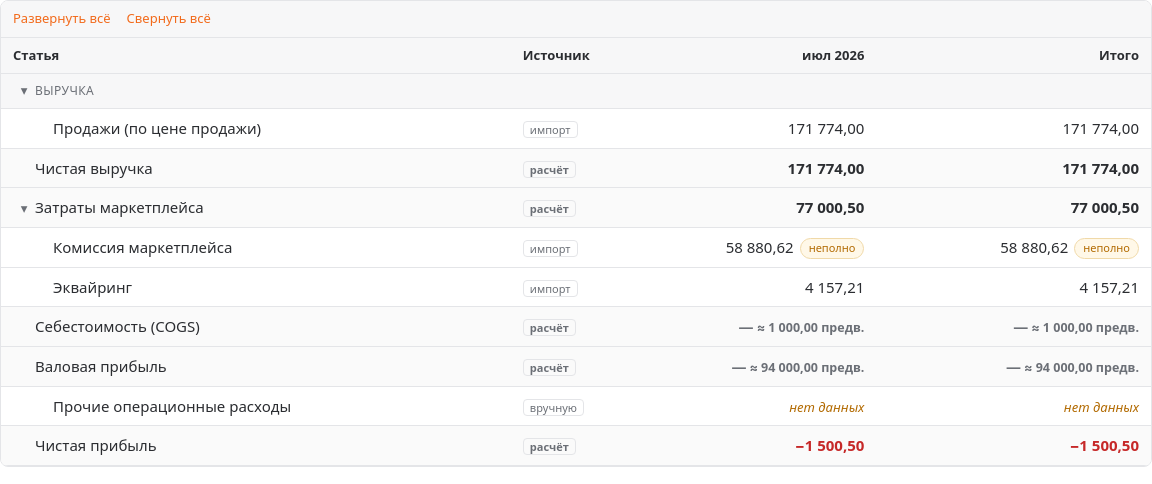
Test: таблица P&L › группы сворачиваются и разворачиваются
This screenshot has width=1152, height=484.
Expected: the button "Эквайринг" is shown, x1=53 y1=276 x2=132 y2=298
Step 1. Click the button named "Свернуть Затраты маркетплейса" → [24, 208], box x1=13 y1=201 x2=35 y2=216
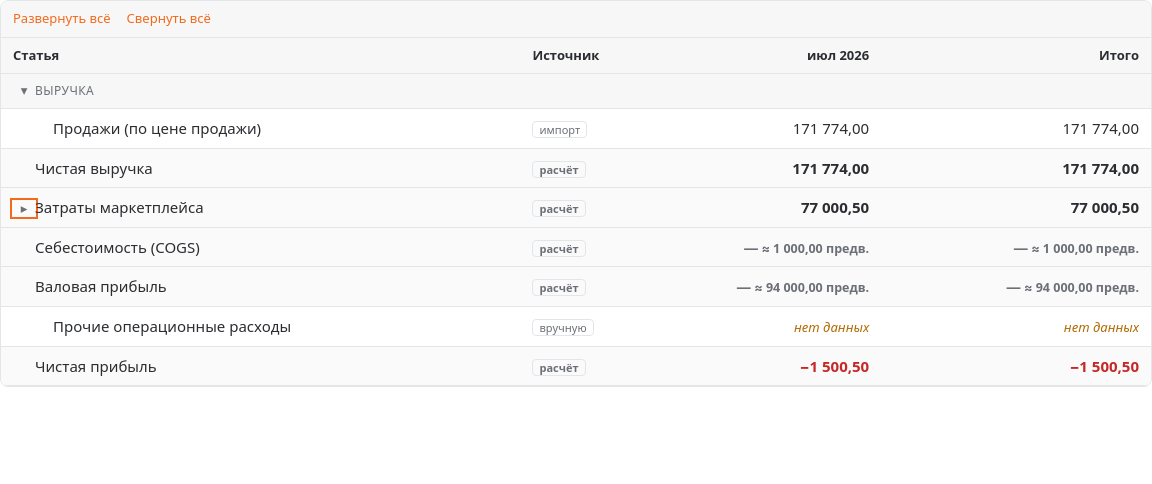
Expected: the button "Эквайринг" is gone
Expected: the button named "Развернуть Затраты маркетплейса" is collapsed, x1=13 y1=201 x2=35 y2=216
Step 2. Click the button "Развернуть всё" → [62, 19], box x1=13 y1=9 x2=111 y2=28
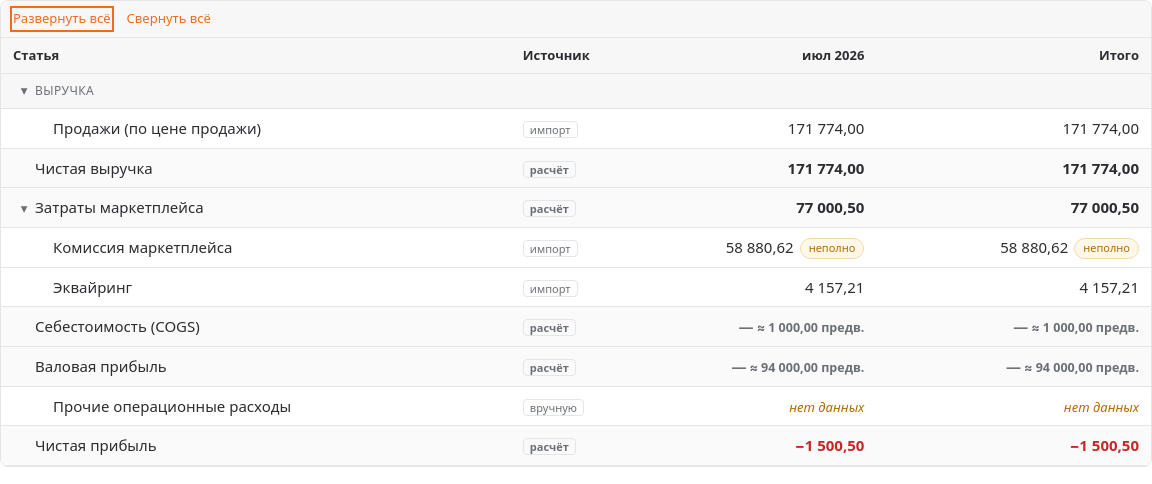
Expected: the button "Эквайринг" is shown, x1=53 y1=276 x2=132 y2=298
Step 3. Click the button "Свернуть всё" → [169, 19], box x1=127 y1=9 x2=211 y2=28
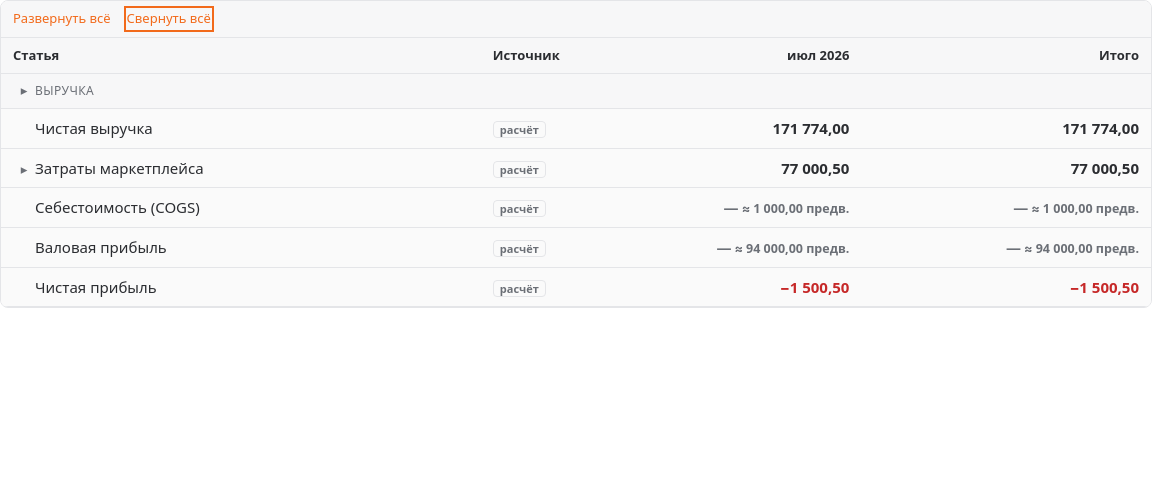
Expected: the button "Комиссия маркетплейса" is gone
